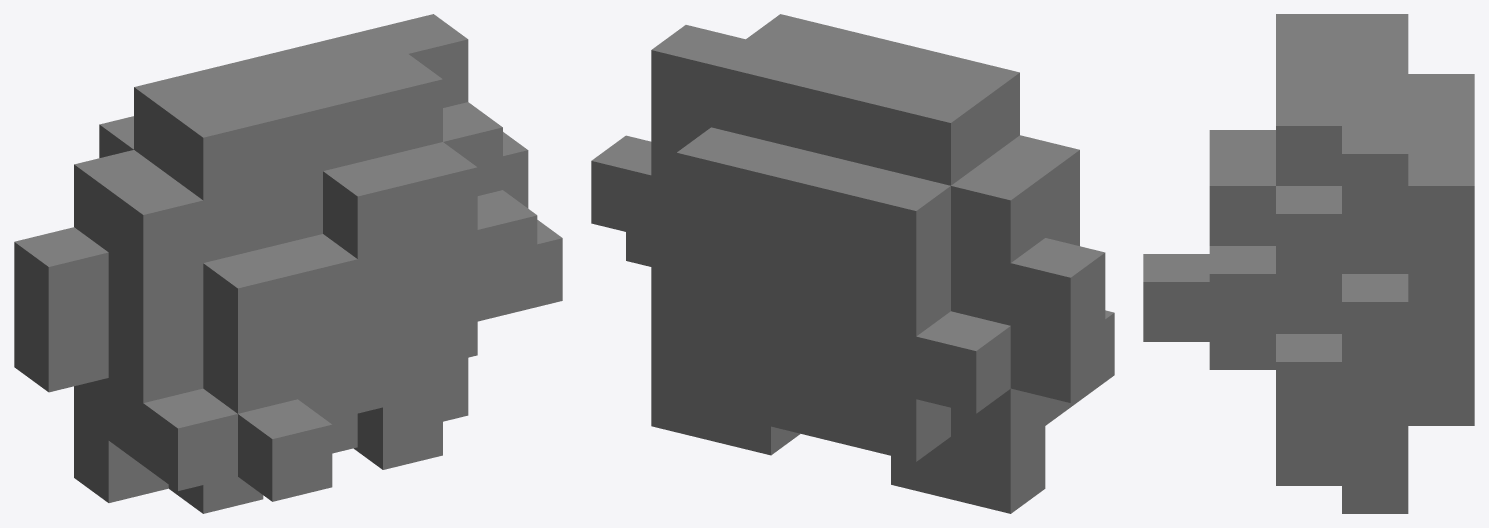
File: weaponsshields-17.obj
3 views of the same model, side by side, from view 1: azimuth 30°, elevation 25°; view 2: azimuth 150°, elevation 25°; view 3: azimuth 270°, elevation 25° (orthographic). The views are drawn at different scales.
Parts seen in each view (by area): view 1: weaponsshields-17; view 2: weaponsshields-17; view 3: weaponsshields-17.
Part boxes in pixels (left/top/right/bottom): weaponsshields-17: left=14, top=14, right=562, bottom=513; weaponsshields-17: left=591, top=14, right=1114, bottom=513; weaponsshields-17: left=1143, top=14, right=1474, bottom=513.
Size of the model in its own units: 8 by 6 by 5.
Materials: 1 (1 with a texture image).
